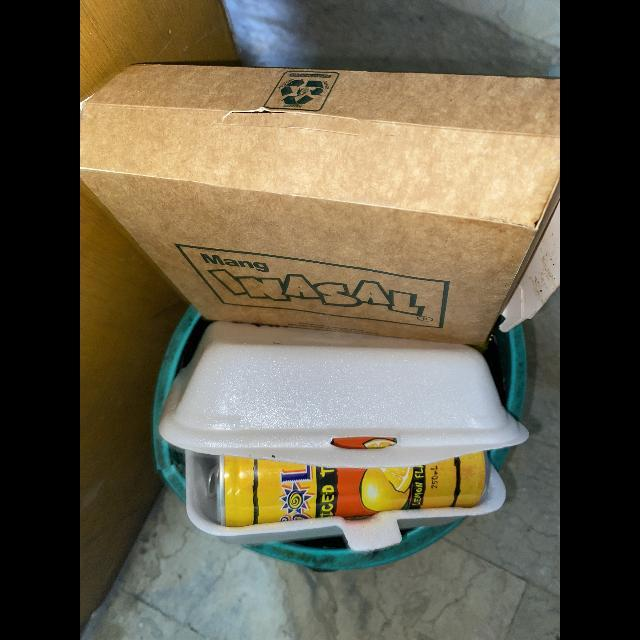metal: (206, 451, 486, 527)
paper: (80, 63, 560, 355)
styrofoam: (158, 323, 529, 554)
